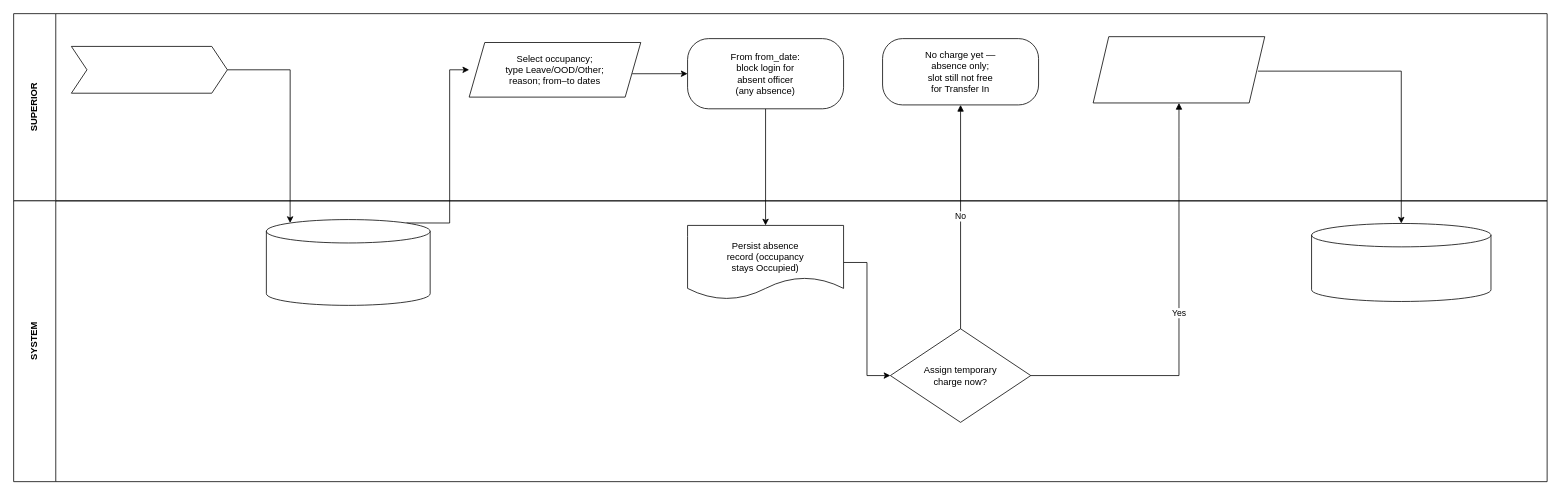
The diagram is 1561 pixels wide and 495 high, and some of its shapes have lost their labels. The shapes that lost their labels are listed below. From the top down, each one's box as (x1, y1, x2, y2) in pixels, then its label:
(71, 46, 227, 93): Open Temporary Absence / Leave / OOD
(1092, 36, 1265, 103): Pick cover officer (peer under superior; e.g. SR B for SR A)
(266, 219, 430, 305): List subordinate occupancies in office span + parentage
(1311, 223, 1491, 301): Store temporary charge Post+Office → cover user (dated; audit)
